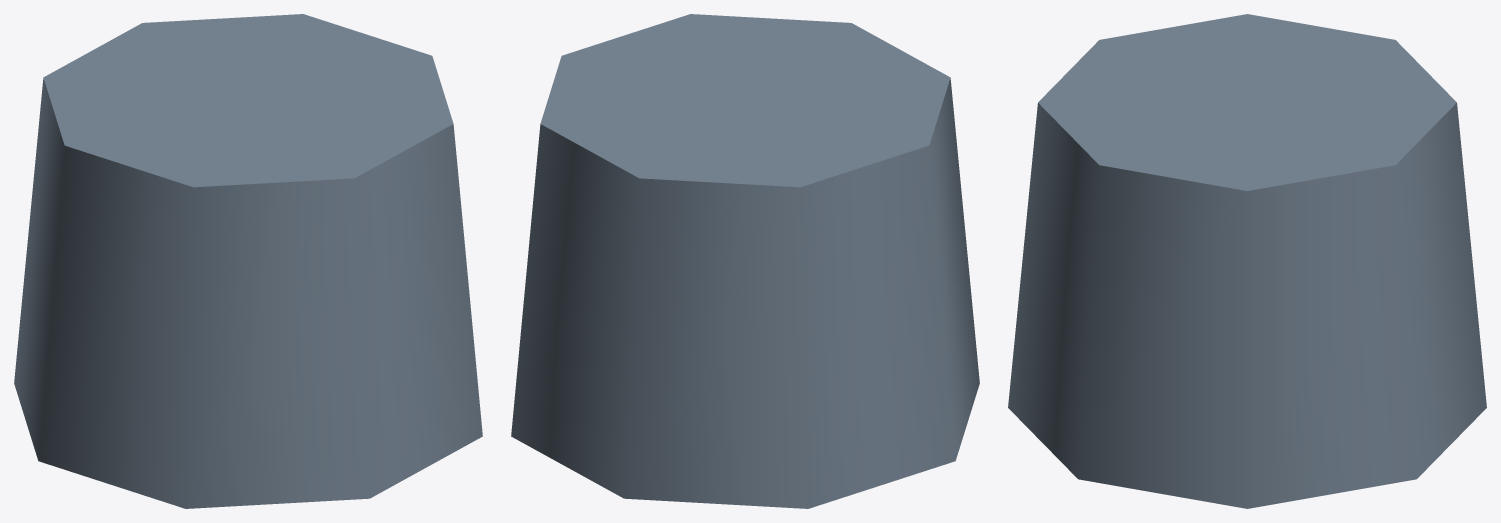
Rendered from bucket_item.glb.
3 renders of one model, left to right at view 1: azimuth 30°, elevation 25°; view 2: azimuth 150°, elevation 25°; view 3: azimuth 270°, elevation 25°, orthographic.
Visible parts, largest first — view 1: bucket_item; view 2: bucket_item; view 3: bucket_item.
Part boxes in pixels (x1,y1,x2,y2): bucket_item: (14,14,482,508); bucket_item: (511,14,979,508); bucket_item: (1008,14,1486,508).
Size of the model in its own units: 0.64 by 0.45 by 0.64.
